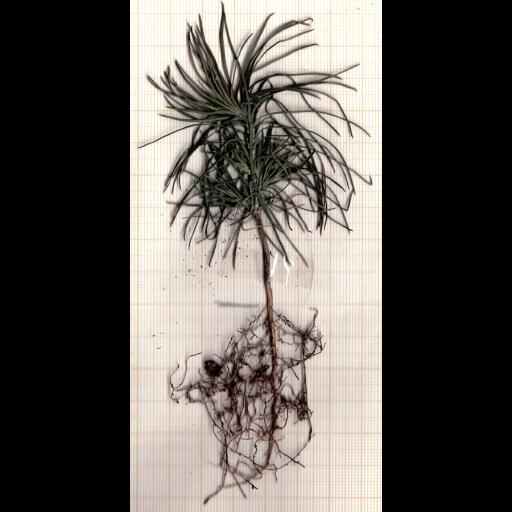flowerCedr: (148, 4, 363, 263)
rootCedr: (169, 311, 325, 503)
stemCedr: (257, 227, 273, 318)
